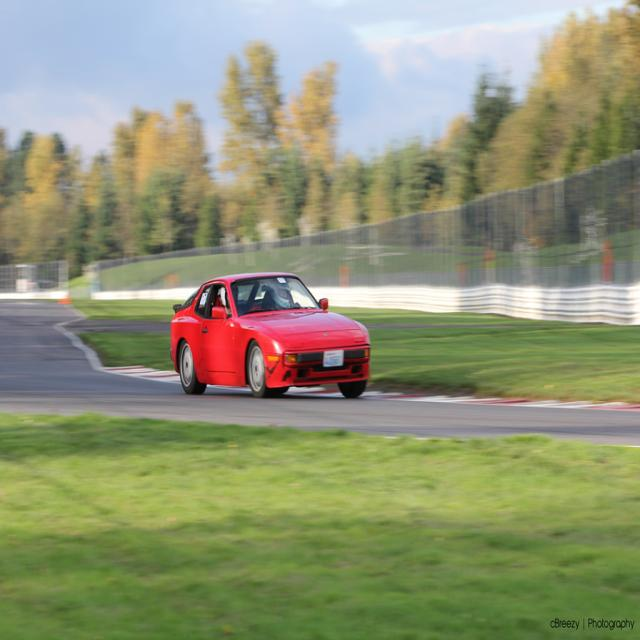car: (173, 266, 366, 399)
